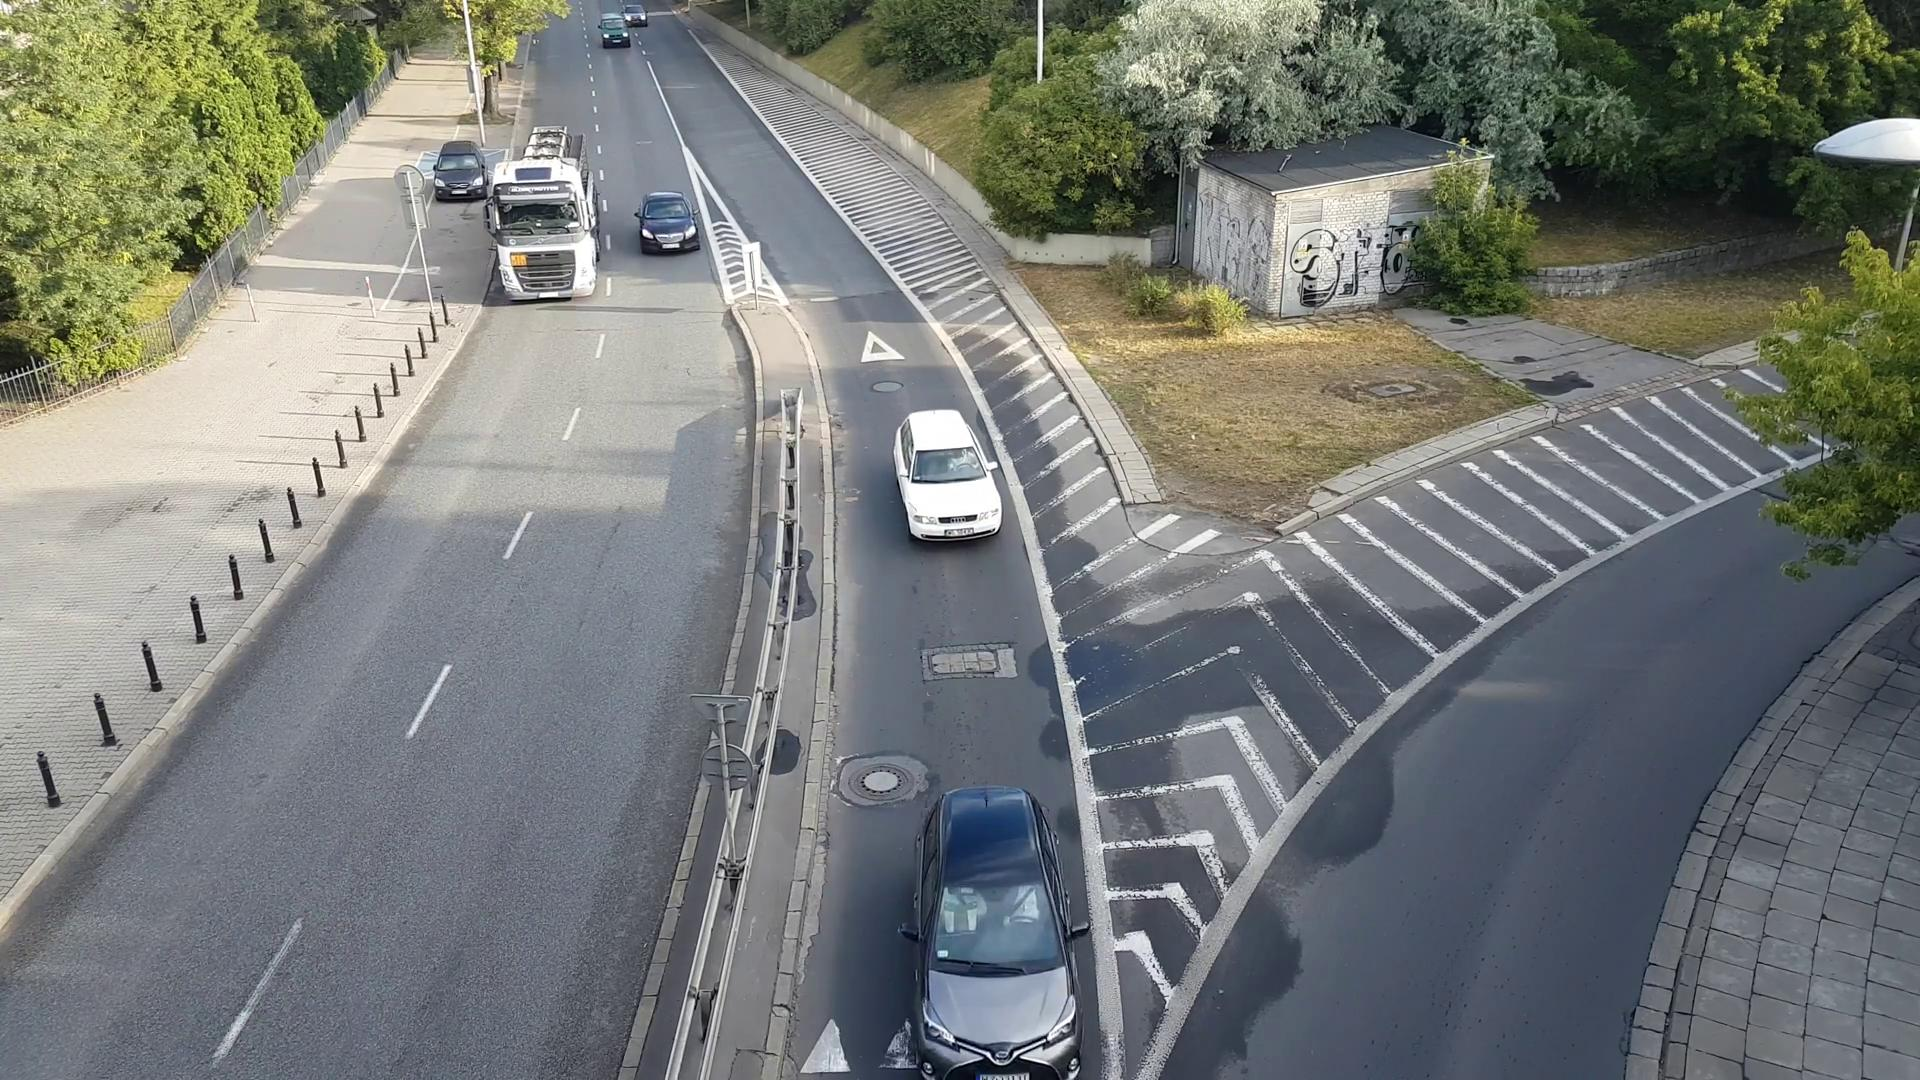car: (903, 777, 1095, 1069), (880, 400, 1021, 556), (628, 182, 704, 258), (423, 131, 495, 212), (595, 7, 628, 53)
truck: (476, 115, 609, 316)
